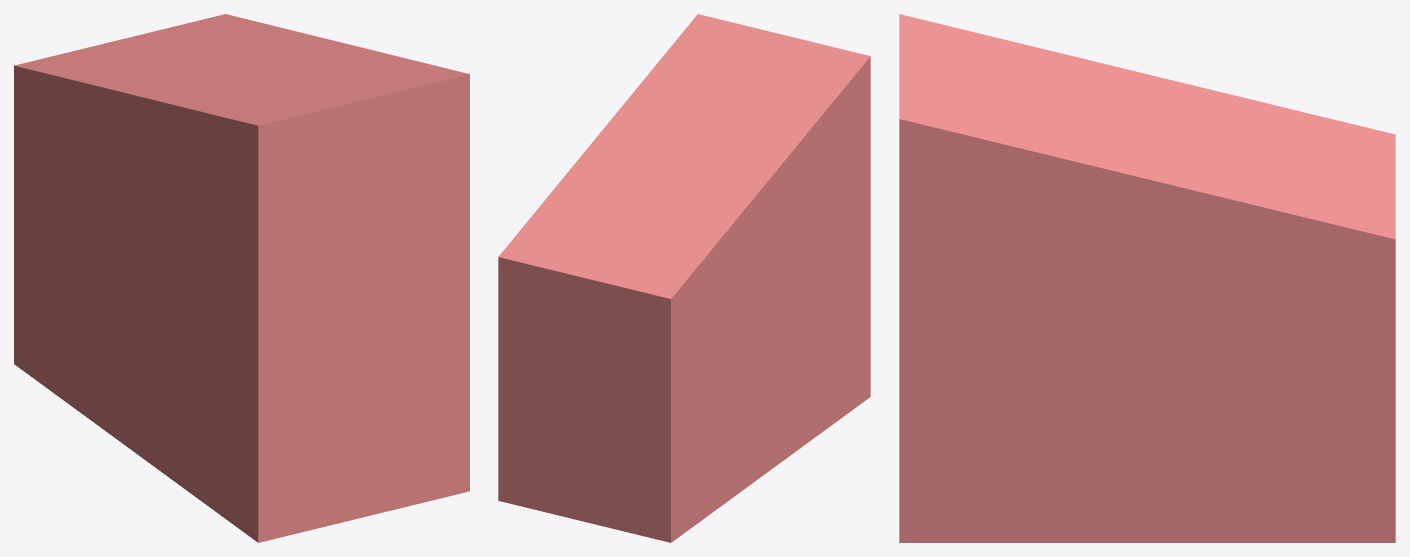
Rendered from home_6x3.fbx.
3 renders of one model, left to right at view 1: azimuth 30°, elevation 25°; view 2: azimuth 150°, elevation 25°; view 3: azimuth 270°, elevation 25°, orthographic. The views are drawn at different scales.
Visible parts, largest first — view 1: Model; view 2: Model; view 3: Model.
Boxes of the visible parts, x1,y1,x2,y2 form: Model: (14, 14, 469, 542); Model: (498, 14, 870, 542); Model: (899, 14, 1395, 542).
Bounding box in the file's own units: 3000 × 5653 × 6000.
